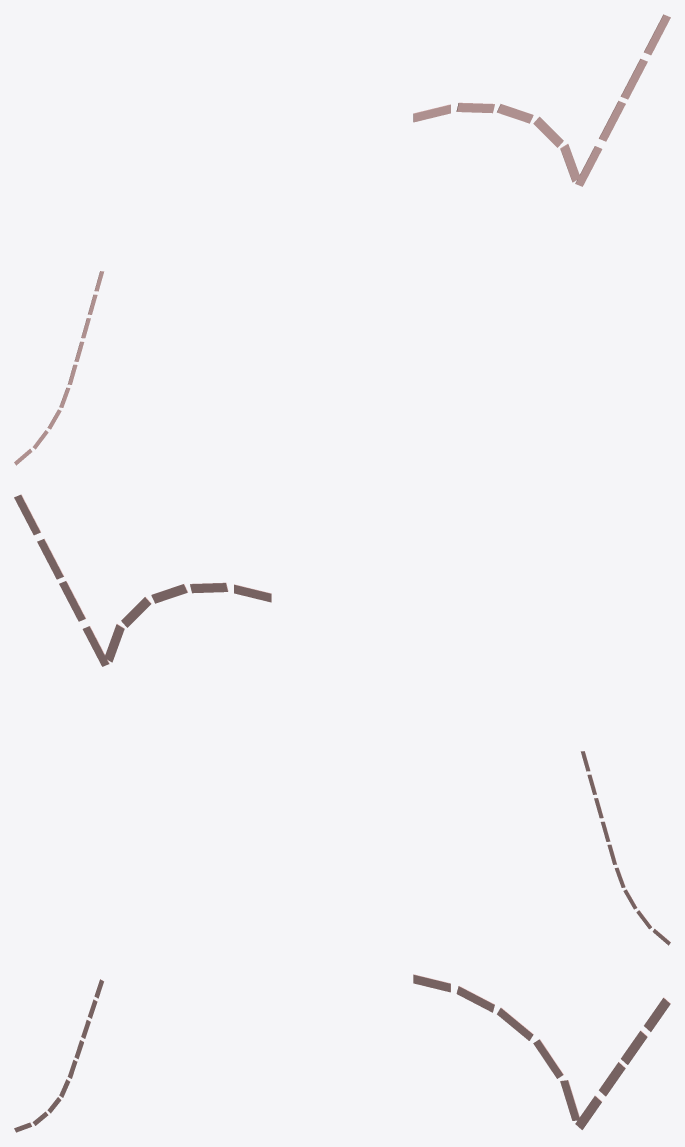
Rendered from TutorialGuide.obj.
The picture shows the model from 3 angles, top to bottom: view 1: azimuth 30°, elevation 25°; view 2: azimuth 150°, elevation 25°; view 3: azimuth 330°, elevation 25°; orthographic projection.
Visible parts, largest first — view 1: Cube.017; view 2: Cube.017; view 3: Cube.017.
Part boxes in pixels (<box>): Cube.017: <box>14,14,670,465</box>; Cube.017: <box>14,494,670,945</box>; Cube.017: <box>14,974,670,1132</box>.
Bounding box in the file's own units: 247 × 105 × 0.311.
1 material, 1 textured.
